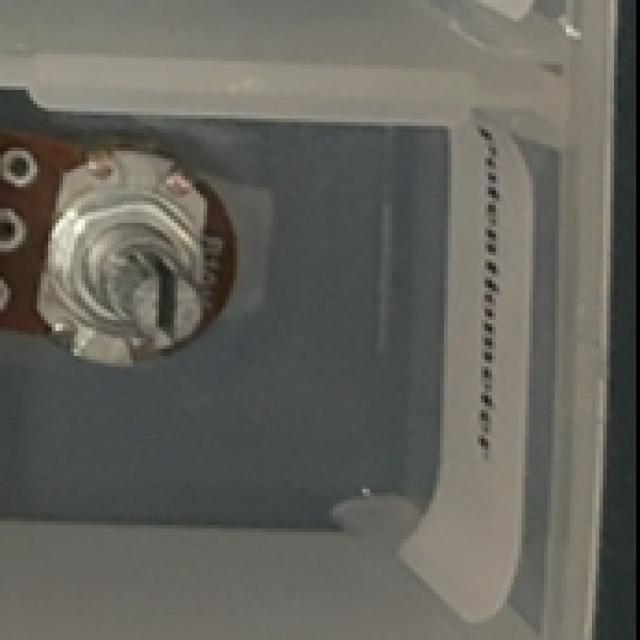Potentiometer: (0, 126, 238, 368)
